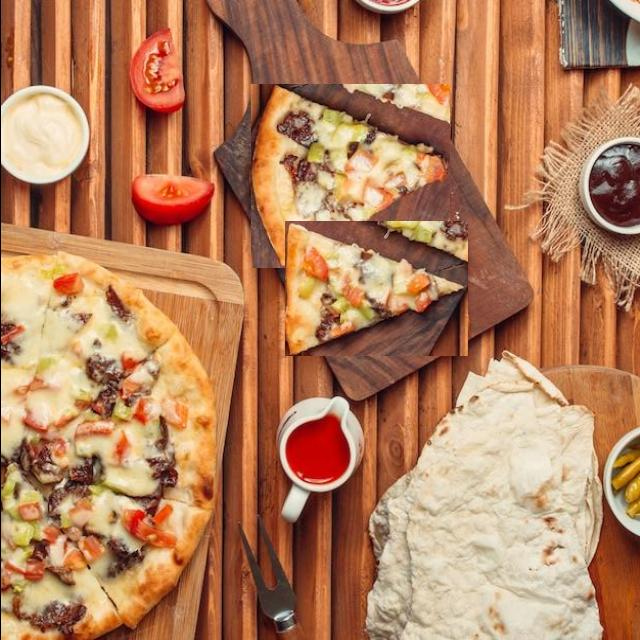pizza: (0, 250, 215, 640), (248, 84, 448, 268), (284, 221, 467, 356)
